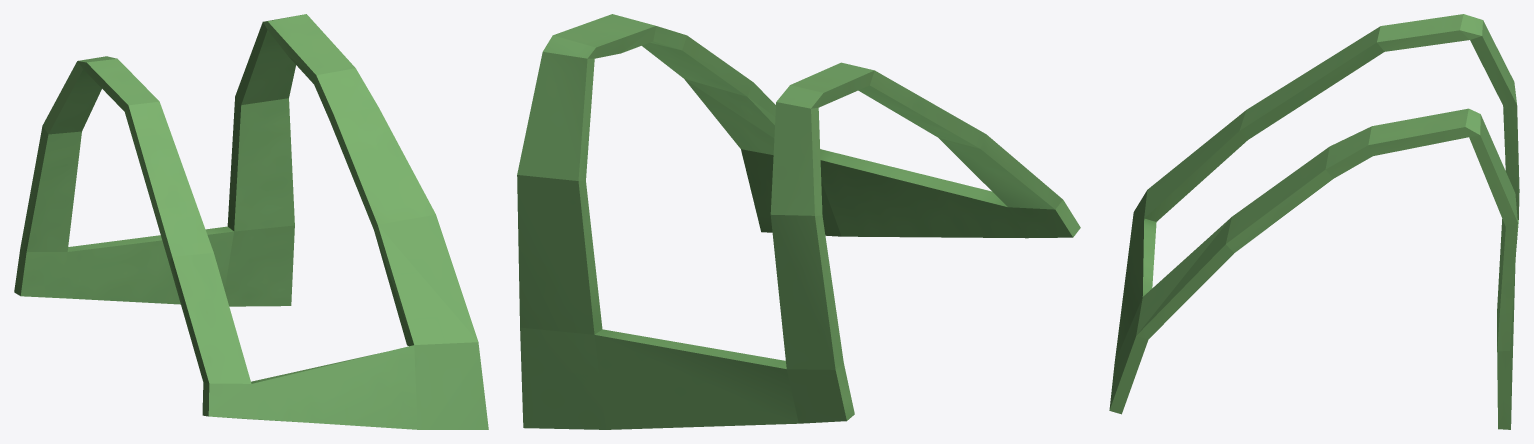
File: TorsoBelt.FBX
3 views of the same model, side by side, from view 1: azimuth 30°, elevation 25°; view 2: azimuth 150°, elevation 25°; view 3: azimuth 270°, elevation 25° (orthographic). The views are drawn at different scales.
Visible parts, largest first — view 1: Torso Belt; view 2: Torso Belt; view 3: Torso Belt.
Part boxes in pixels (left/top/right/bottom): Torso Belt: left=14, top=14, right=488, bottom=429; Torso Belt: left=517, top=14, right=1080, bottom=429; Torso Belt: left=1109, top=14, right=1519, bottom=429.
Size of the model in its own units: 174 by 226 by 187.
1 material, 1 textured.
